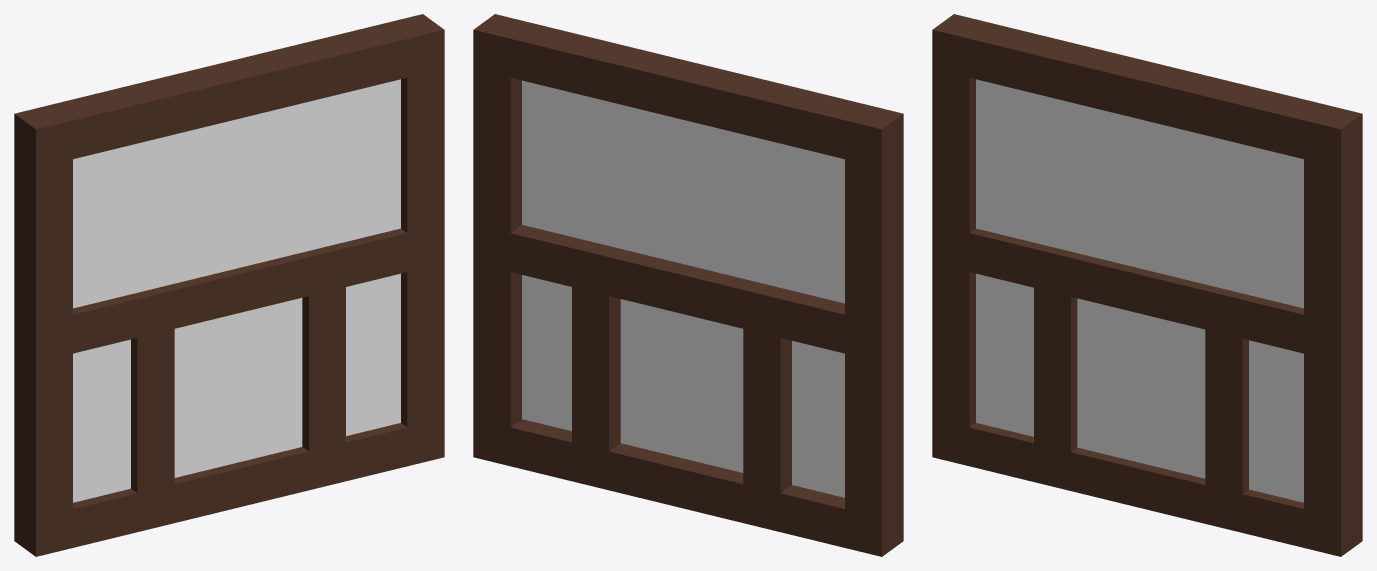
The model's file is ttduvar.fbx.
3 views of the same model, side by side, from view 1: azimuth 30°, elevation 25°; view 2: azimuth 150°, elevation 25°; view 3: azimuth 330°, elevation 25° (orthographic).
Parts seen in each view (by area): view 1: Plane.015, Plane.013; view 2: Plane.015, Plane.013; view 3: Plane.015, Plane.013.
Part boxes in pixels (bbox=[...]): Plane.015: bbox=[14, 14, 444, 556]; Plane.013: bbox=[73, 79, 400, 502]; Plane.015: bbox=[473, 14, 903, 556]; Plane.013: bbox=[522, 80, 844, 497]; Plane.015: bbox=[932, 14, 1362, 556]; Plane.013: bbox=[976, 79, 1303, 502].
Size of the model in its own units: 2.86 by 2.86 by 0.2616.
